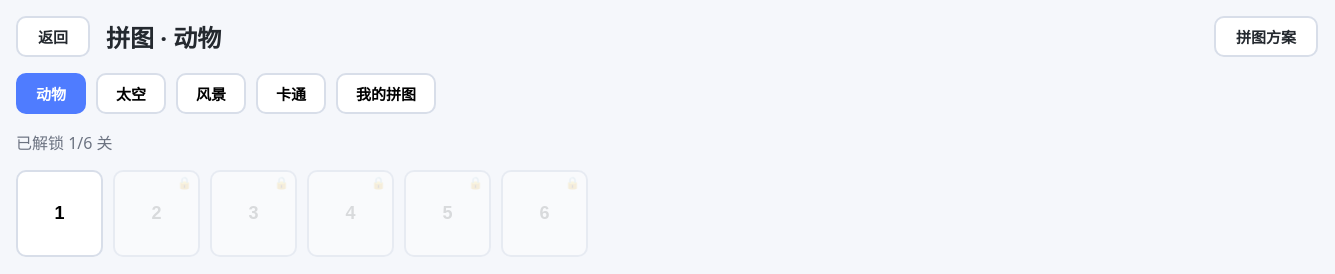
LevelSelect 专题轨分流（拼图先选专题，方案 = 关卡） › 切换 custom 专题（无方案）展示空态，不渲染关卡格
The width and height of the screenshot is (1335, 274).
Click the button "我的拼图".
click(386, 94)  # box [336, 73, 436, 114]
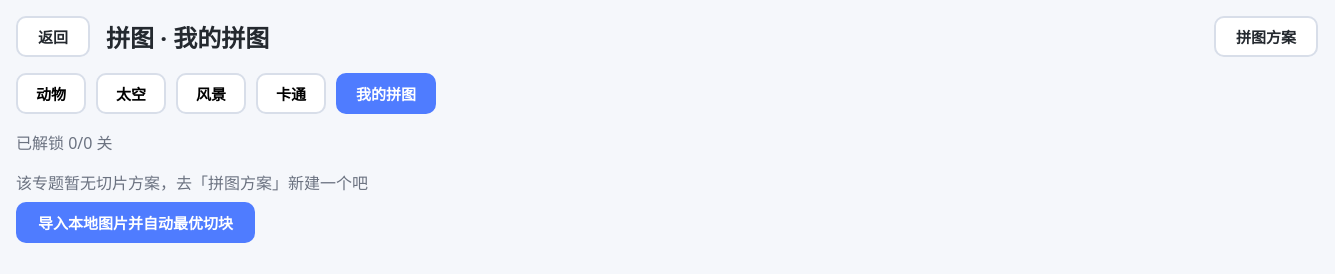
Now the text "该专题暂无切片方案，去「拼图方案」新建一个吧" is shown, box [16, 172, 368, 194]
